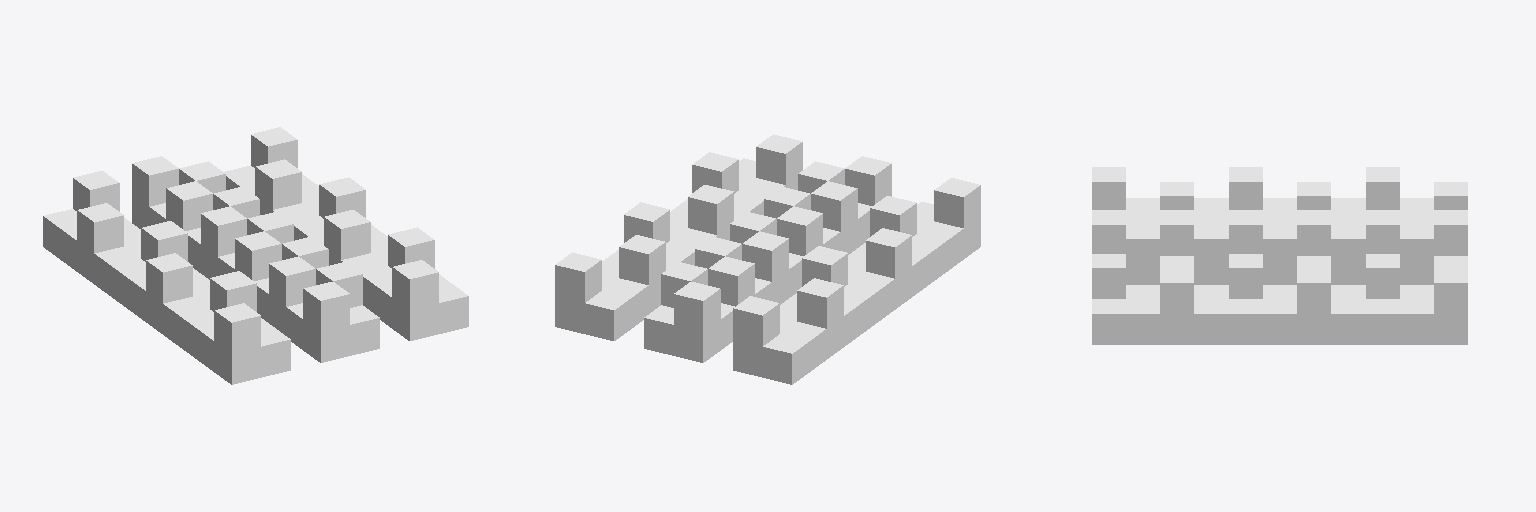
The model's file is overworld-15-props_farm.obj.
The picture shows the model from 3 angles: view 1: azimuth 30°, elevation 25°; view 2: azimuth 150°, elevation 25°; view 3: azimuth 270°, elevation 25°; orthographic projection.
Parts seen in each view (by area): view 1: props_farm; view 2: props_farm; view 3: props_farm.
Part boxes in pixels (x1,y1,x2,y2): props_farm: (43, 127, 468, 384); props_farm: (555, 134, 980, 384); props_farm: (1092, 167, 1467, 344).
Bounding box in the file's own units: 0.8 × 0.2 × 1.1.